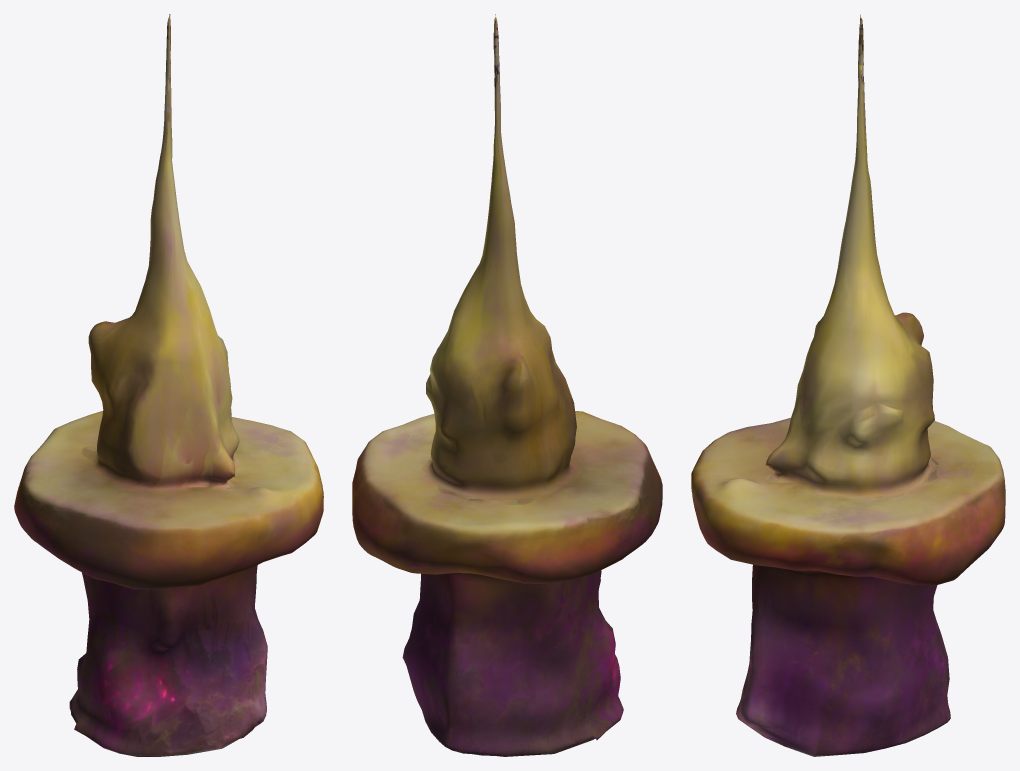
The model's file is Ethereal_Flame_A.fbx.
3 renders of one model, left to right at view 1: azimuth 30°, elevation 25°; view 2: azimuth 150°, elevation 25°; view 3: azimuth 270°, elevation 25°, orthographic. The views are drawn at different scales.
Visible parts, largest first — view 1: input; view 2: input; view 3: input.
Part boxes in pixels (<box>): input: <box>14,14,323,756</box>; input: <box>352,14,662,756</box>; input: <box>691,14,1005,756</box>.
Bounding box in the file's own units: 77.84 × 195 × 78.59.
Materials: 1 (1 with a texture image).
